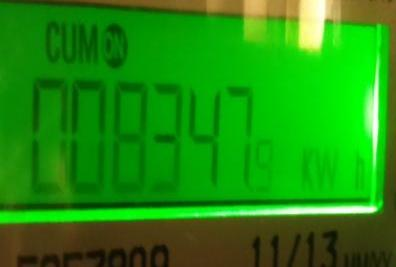.: (291, 145, 372, 196)
0: (248, 186, 260, 196)
1: (28, 77, 68, 192), (70, 78, 109, 194)
4: (151, 81, 185, 190)
5: (188, 83, 225, 189)
8: (218, 84, 254, 189)
9: (110, 77, 150, 194)
:: (255, 136, 277, 192)
